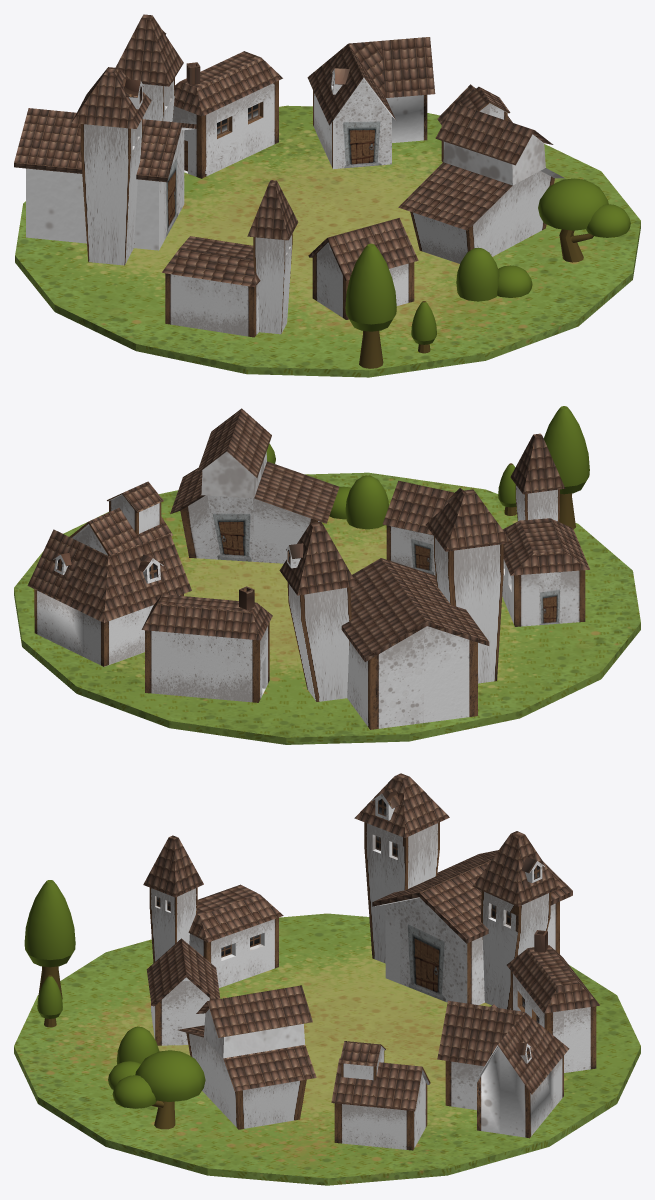
The model's file is Vila.fbx.
3 renders of one model, top to bottom at view 1: azimuth 30°, elevation 25°; view 2: azimuth 150°, elevation 25°; view 3: azimuth 270°, elevation 25°, orthographic.
Visible parts, largest first — view 1: Base, Paredes, Telhados, Arvores; view 2: Paredes, Telhados, Base, Arvores; view 3: Base, Paredes, Telhados, Arvores.
Part boxes in pixels (left/top/right/bottom): Base: left=15, top=105, right=640, bottom=377; Paredes: left=26, top=69, right=564, bottom=337; Telhados: left=14, top=14, right=553, bottom=287; Arvores: left=345, top=178, right=630, bottom=368; Paredes: left=34, top=451, right=585, bottom=729; Telhados: left=27, top=408, right=589, bottom=661; Base: left=14, top=472, right=640, bottom=744; Arvores: left=266, top=406, right=589, bottom=529; Base: left=14, top=913, right=640, bottom=1185; Paredes: left=149, top=793, right=596, bottom=1150; Telhados: left=143, top=773, right=599, bottom=1111; Arvores: left=24, top=880, right=205, bottom=1129.
Size of the model in its own units: 133 by 44.49 by 133.
